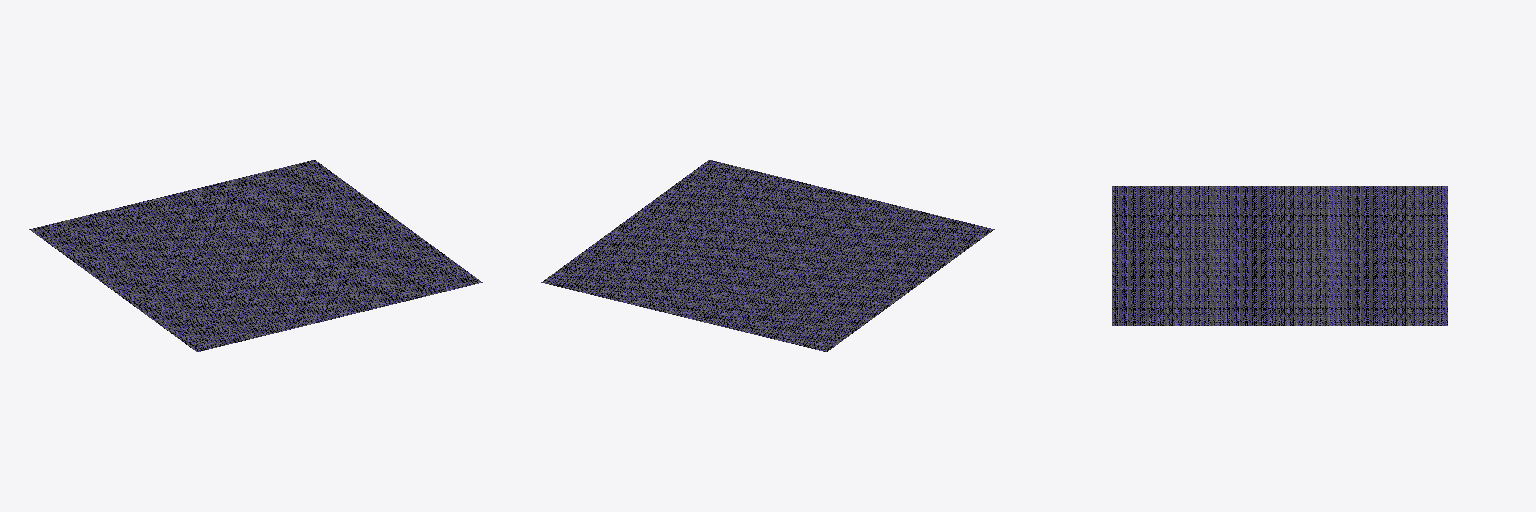
3 views of the same model, side by side, from view 1: azimuth 30°, elevation 25°; view 2: azimuth 150°, elevation 25°; view 3: azimuth 270°, elevation 25° (orthographic).
Parts seen in each view (by area): view 1: Quad_0; view 2: Quad_0; view 3: Quad_0.
Boxes of the visible parts, box(x1,y1,x2,y2) form: Quad_0: box(29, 160, 482, 351); Quad_0: box(541, 160, 994, 351); Quad_0: box(1112, 186, 1447, 325).
Size of the model in its own units: 44.46 by 0 by 45.27.
1 materials, 1 textured.